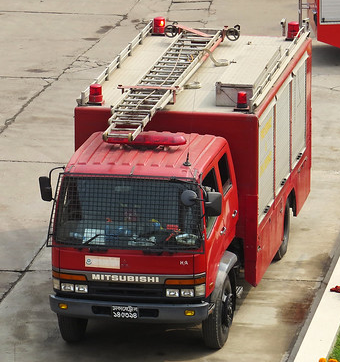Fire truck: (38, 15, 317, 356)
